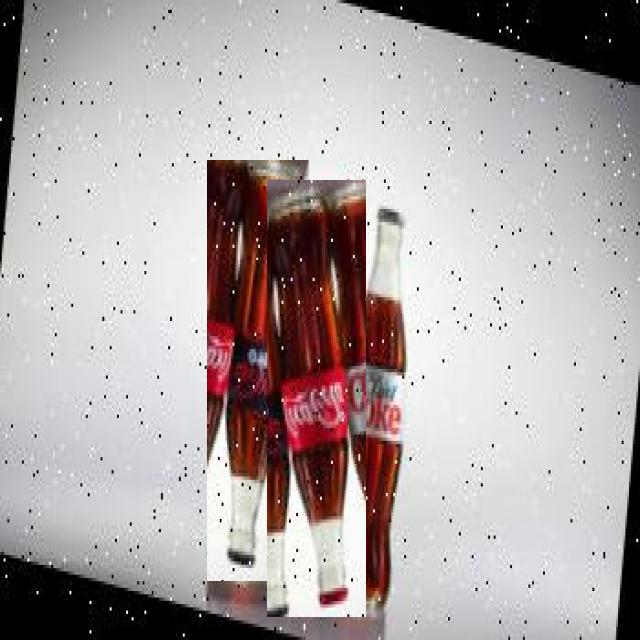coca-cola: (329, 190, 430, 620), (267, 180, 366, 617), (207, 160, 309, 581)
